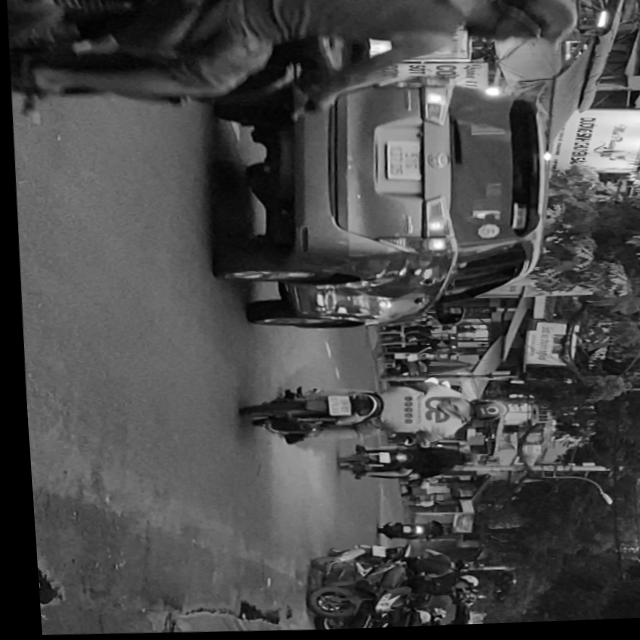helmet: (459, 0, 579, 51), (461, 400, 502, 425)
licenseplate: (3, 0, 587, 126), (233, 377, 505, 453)
nohelmet: (322, 397, 345, 417)
